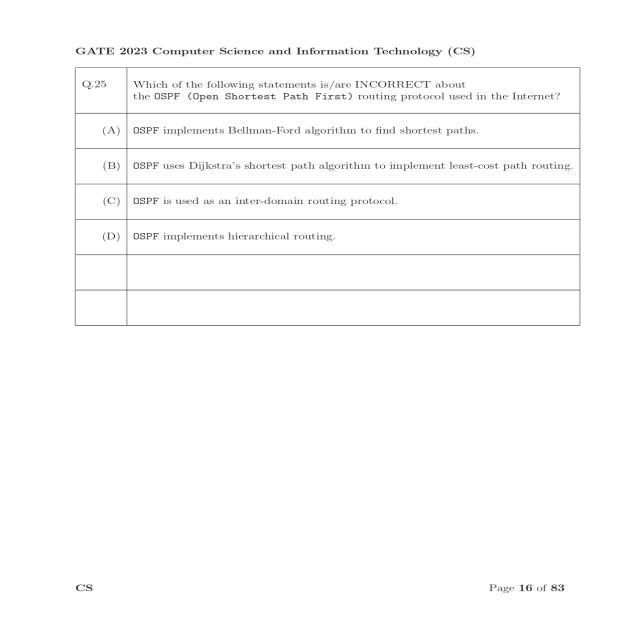Answer_Block: (76, 115, 581, 256)
Question_Answer_Block: (76, 68, 581, 326)
Question_Block: (76, 70, 581, 116)
Question_Paper_Area: (76, 68, 581, 326)
